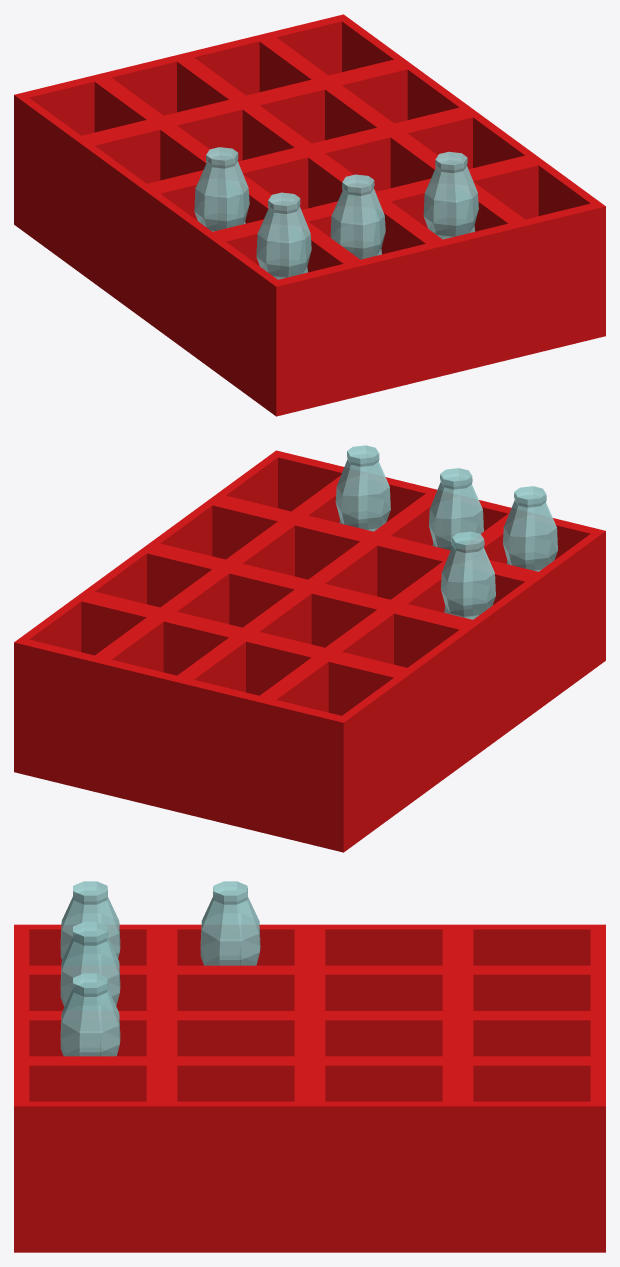
File: empty crate.fbx
The picture shows the model from 3 angles, top to bottom: view 1: azimuth 30°, elevation 25°; view 2: azimuth 150°, elevation 25°; view 3: azimuth 270°, elevation 25°; orthographic projection. The views are drawn at different scales.
Parts seen in each view (by area): view 1: Cube, Cube.003, Cube.002, Cube.004, Cube.001; view 2: Cube, Cube.004, Cube.003, Cube.002, Cube.001; view 3: Cube, Cube.004, Cube.003, Cube.001, Cube.002.
Part boxes in pixels (x1,y1,x2,y2): Cube: (14,14,605,416); Cube.003: (423,151,478,239); Cube.002: (256,192,311,279); Cube.004: (194,147,249,231); Cube.001: (330,174,385,259); Cube: (14,450,605,852); Cube.004: (440,531,495,619); Cube.003: (335,445,390,531); Cube.002: (503,486,557,571); Cube.001: (429,468,483,550); Cube: (14,924,605,1252); Cube.004: (200,881,260,965); Cube.003: (60,973,120,1056); Cube.001: (60,922,120,1006); Cube.002: (60,881,120,960).
Size of the model in its own units: 200 by 106 by 276.
